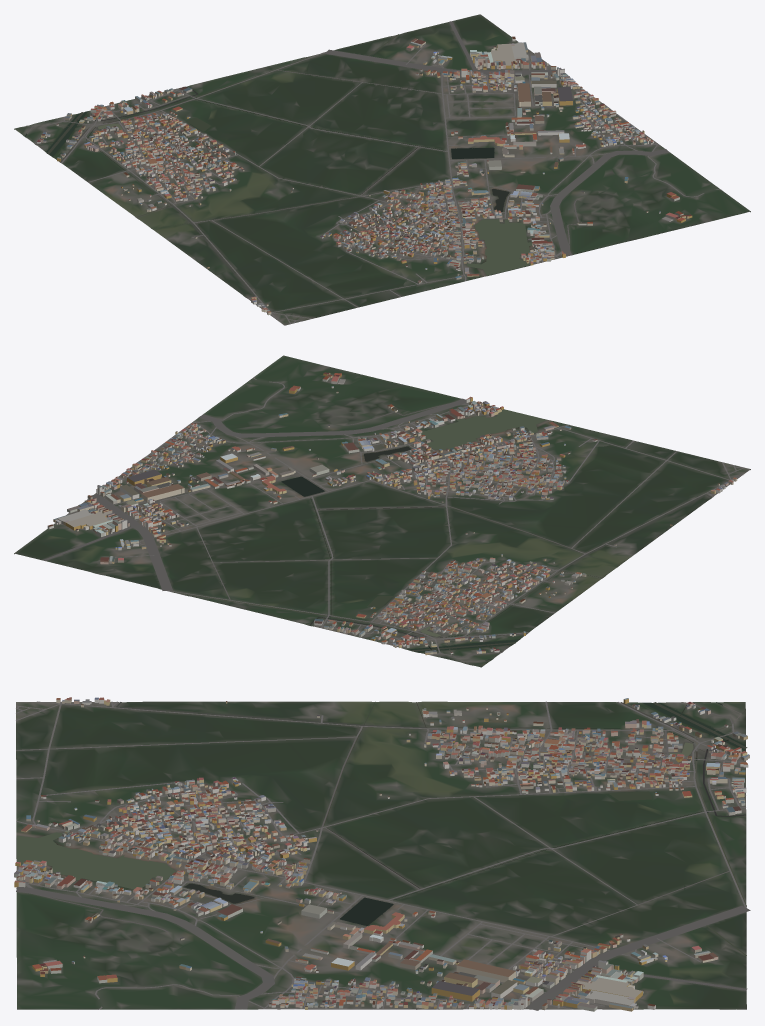
The picture shows the model from 3 angles, top to bottom: view 1: azimuth 30°, elevation 25°; view 2: azimuth 150°, elevation 25°; view 3: azimuth 270°, elevation 25°; orthographic projection. The views are drawn at different scales.
Parts seen in each view (by area): view 1: ground, buildings, roads, water; view 2: ground, buildings, roads, water; view 3: ground, buildings, roads, water.
Part boxes in pixels (bbox=[...]): ground: bbox=[14, 14, 750, 325]; buildings: bbox=[37, 36, 692, 315]; roads: bbox=[34, 21, 720, 324]; water: bbox=[25, 34, 532, 297]; ground: bbox=[14, 355, 750, 667]; buildings: bbox=[47, 372, 737, 655]; roads: bbox=[43, 377, 744, 657]; water: bbox=[95, 409, 711, 664]; ground: bbox=[16, 701, 746, 1009]; buildings: bbox=[14, 697, 749, 1011]; roads: bbox=[16, 701, 750, 1010]; water: bbox=[17, 701, 747, 955].
Bounding box in the file's own units: 1415 × 28.15 × 1416.
